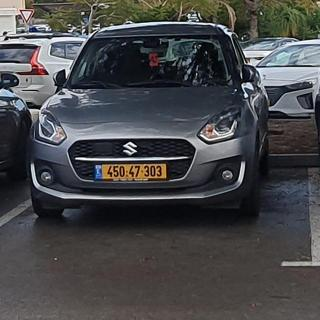LicensePlate: (103, 165, 166, 178)
